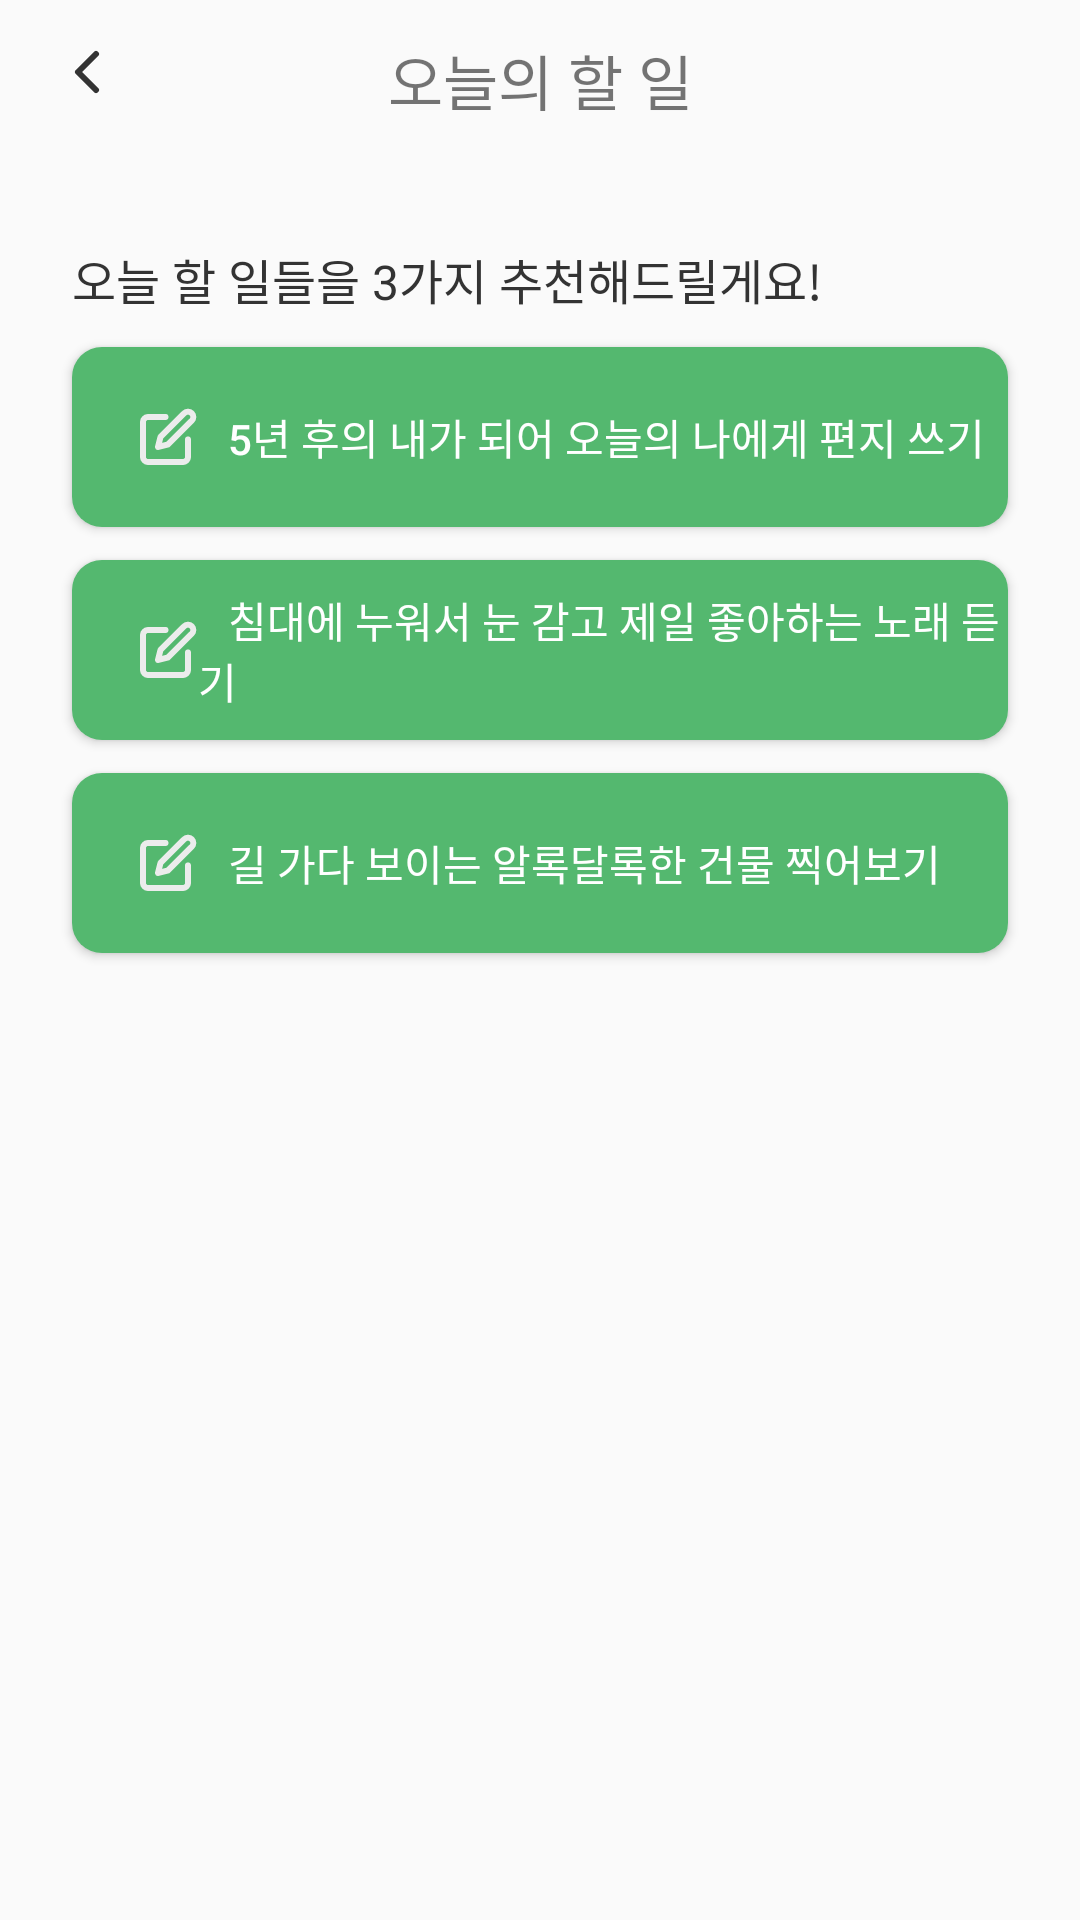

Icon bounding boxes for this 1080 × 1920 phone screenshot, format (x1, y1, x2, y2):
back: (75, 51, 99, 93)
